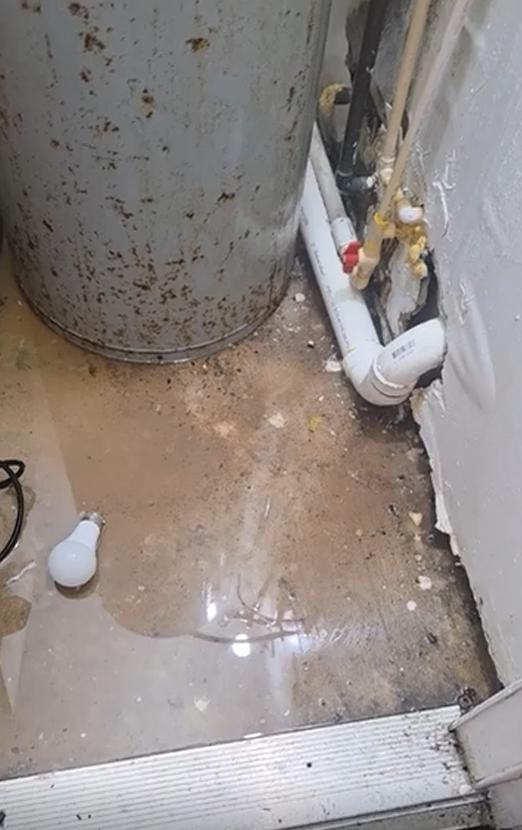water accumulation: (0, 247, 506, 775)
